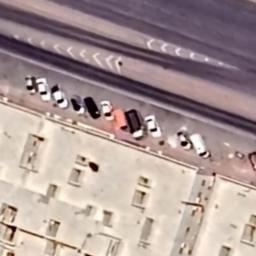sedan: (50, 83, 70, 110), (35, 78, 53, 104), (83, 96, 101, 122), (143, 114, 161, 140), (175, 130, 193, 154), (99, 99, 114, 123), (69, 93, 84, 116), (23, 74, 36, 96)
truck: (126, 109, 146, 141)
van: (188, 132, 212, 159), (111, 107, 129, 133)
